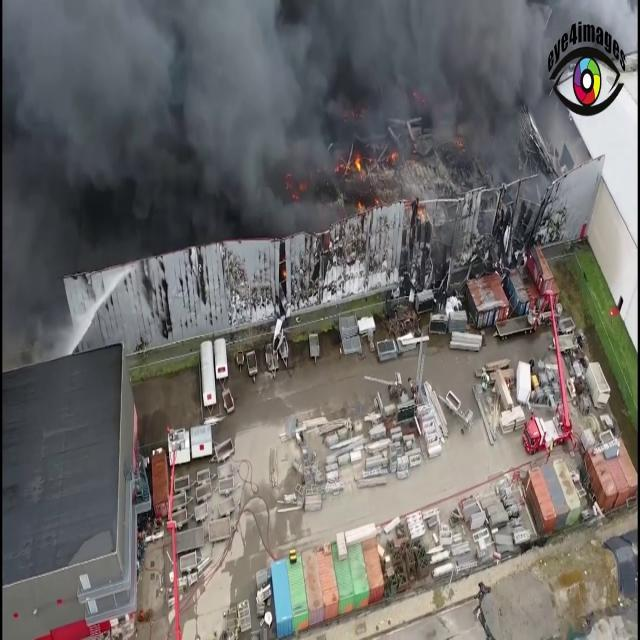Smoke: (2, 0, 326, 260), (321, 0, 566, 206), (544, 198, 552, 202)
